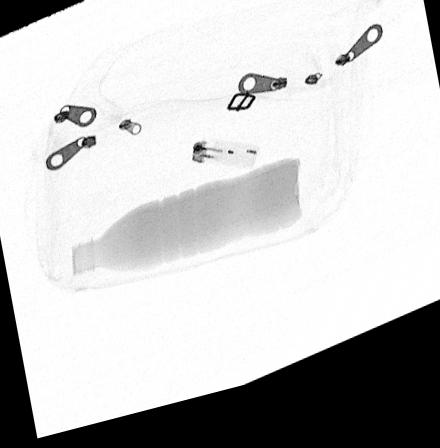Lighter: (189, 150, 257, 182)
